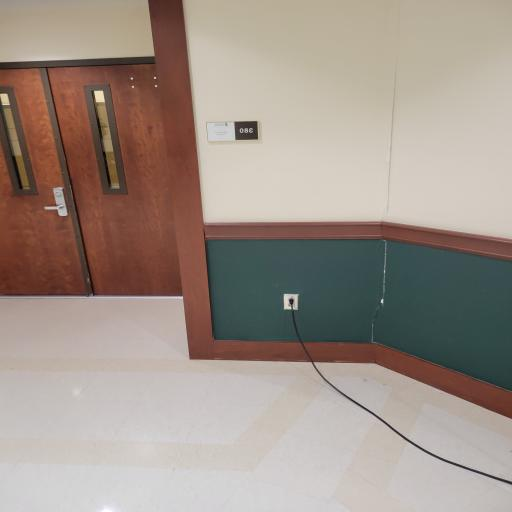doors: (0, 54, 156, 312)
outlet: (277, 290, 306, 316)
room 380 sign: (204, 117, 261, 144)
